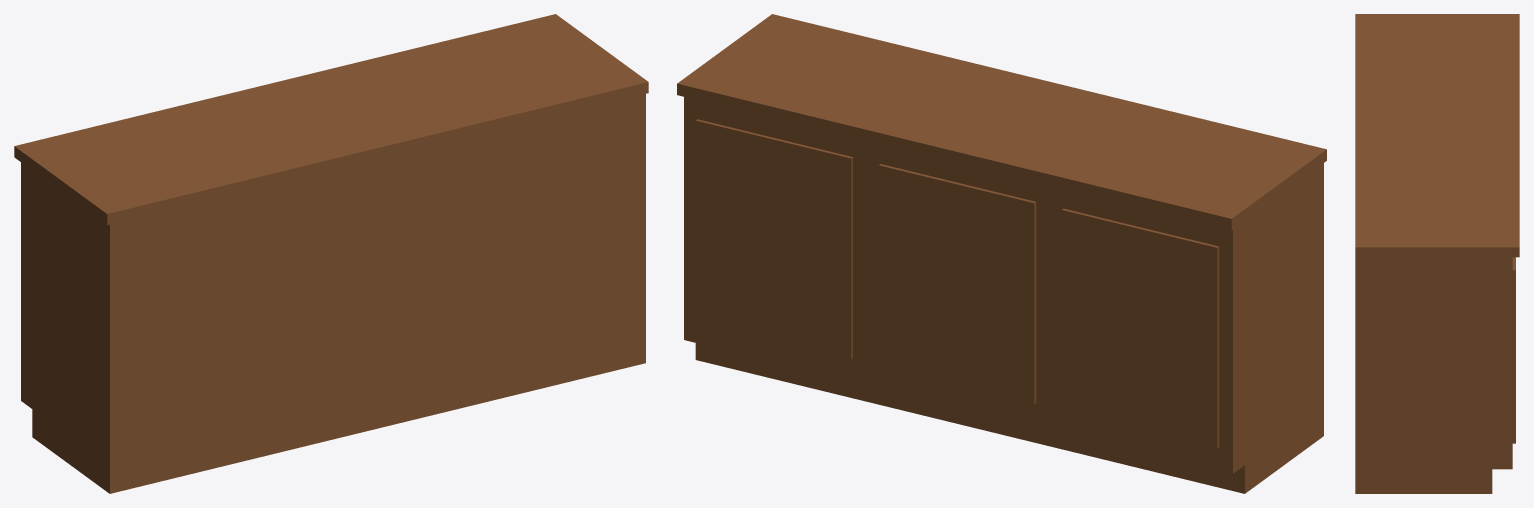
Rendered from parametric-counter-3rd.glb.
3 renders of one model, left to right at view 1: azimuth 30°, elevation 25°; view 2: azimuth 150°, elevation 25°; view 3: azimuth 270°, elevation 25°, orthographic. The views are drawn at different scales.
Visible parts, largest first — view 1: parametric-counter-3rd; view 2: parametric-counter-3rd; view 3: parametric-counter-3rd.
Part boxes in pixels (x1=…): parametric-counter-3rd: x1=14, y1=14, x2=648, y2=493; parametric-counter-3rd: x1=677, y1=14, x2=1326, y2=493; parametric-counter-3rd: x1=1355, y1=14, x2=1519, y2=493.
Bounding box in the file's own units: 2.02 × 1 × 0.6.
